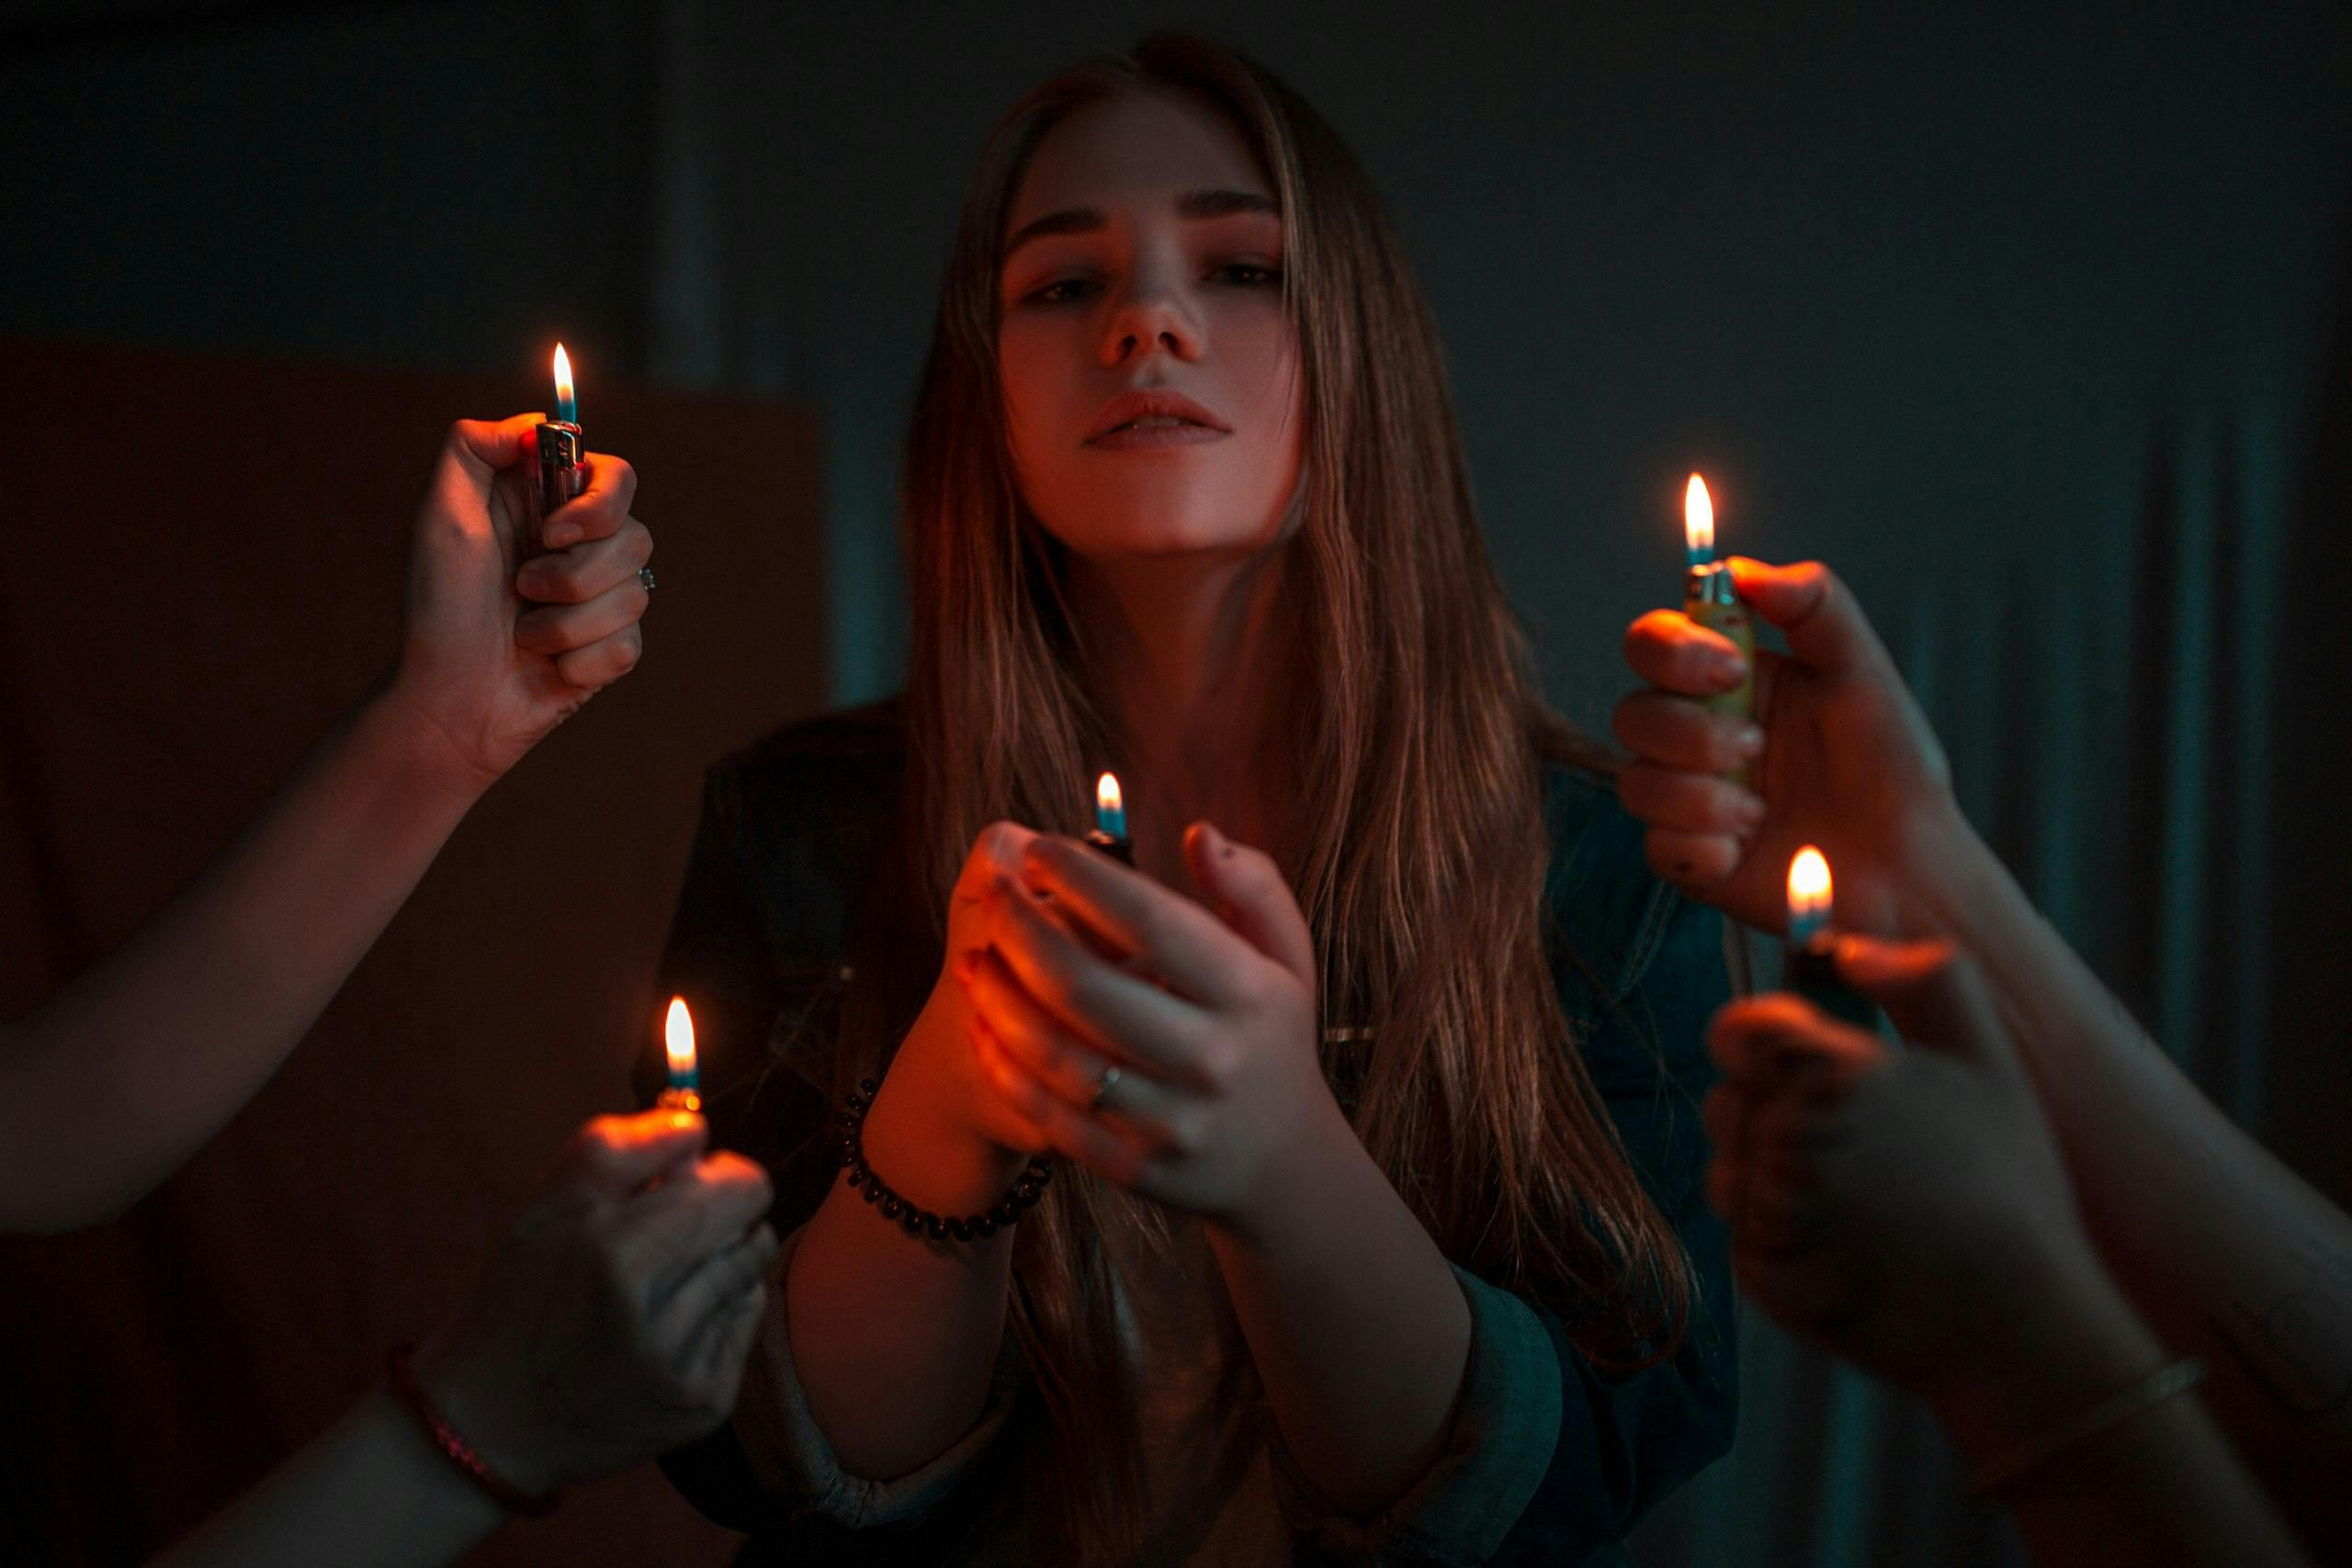Fire: (534, 331, 1864, 1094)
